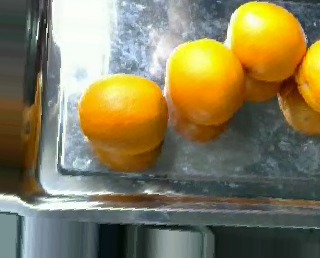Orange: (78, 72, 168, 153), (166, 37, 246, 125), (226, 1, 308, 82)
